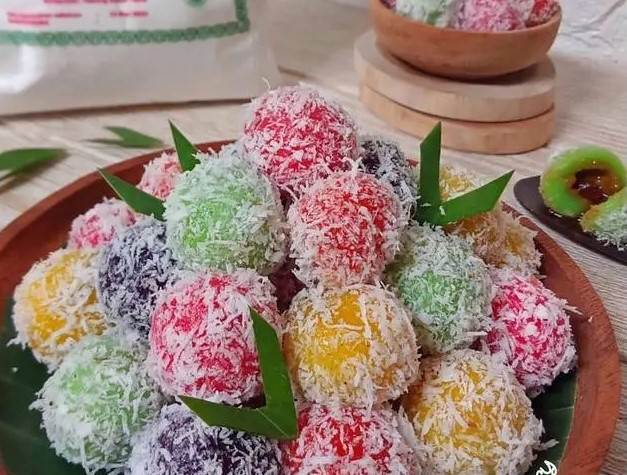klepon: (122, 250, 286, 397), (232, 80, 371, 196)
